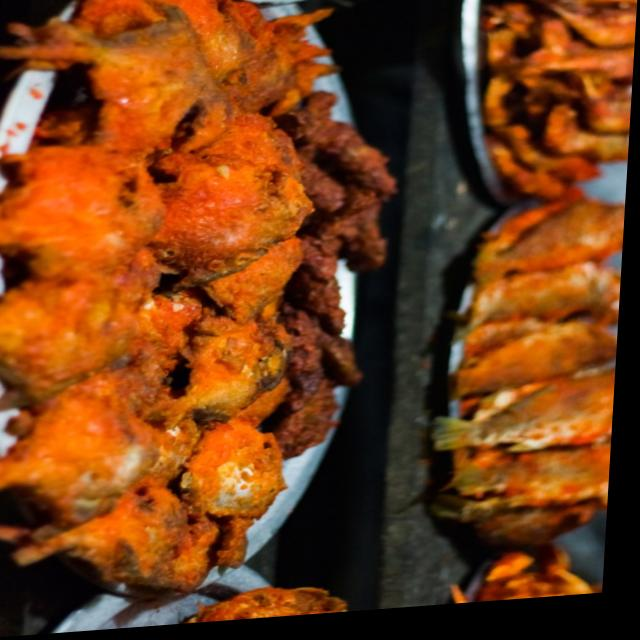FISH FRY: (0, 0, 313, 602), (448, 187, 624, 539)
